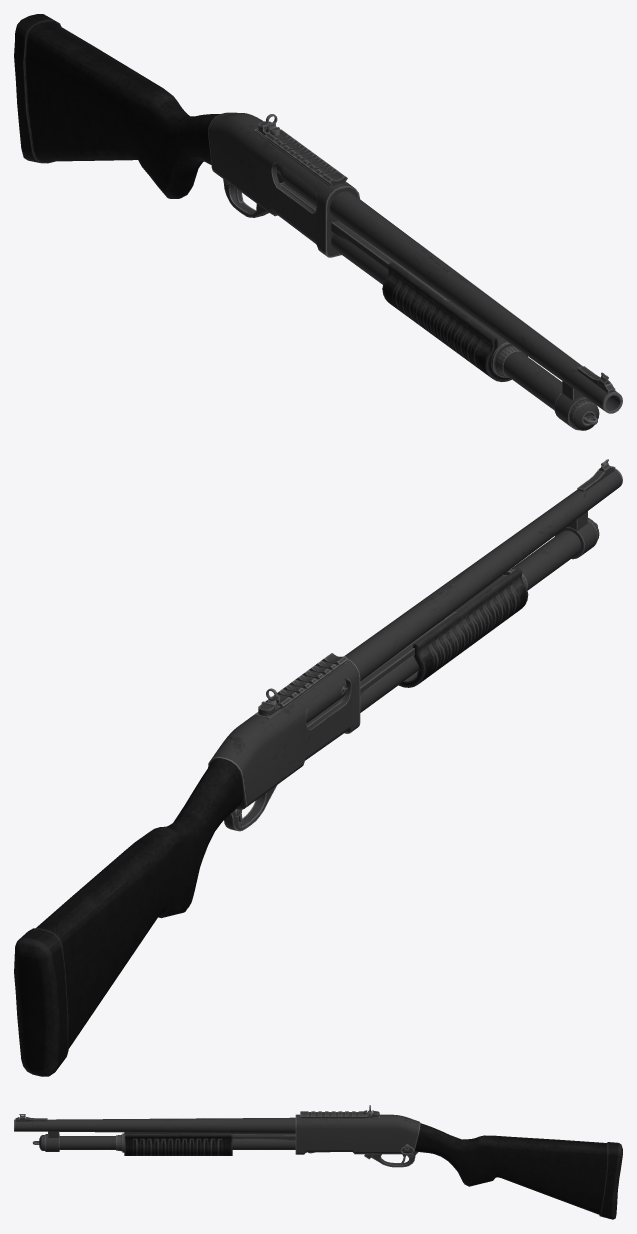
The model's file is Shotgun_P870.fbx.
3 renders of one model, top to bottom at view 1: azimuth 30°, elevation 25°; view 2: azimuth 150°, elevation 25°; view 3: azimuth 270°, elevation 25°, orthographic. The views are drawn at different scales.
Visible parts, largest first — view 1: GunMesh; view 2: GunMesh; view 3: GunMesh.
Boxes of the visible parts, x1,y1,x2,y2 form: GunMesh: (14,14,622,430); GunMesh: (14,459,622,1076); GunMesh: (14,1105,622,1219).
Size of the model in its own units: 0.0461 by 0.2162 by 1.06.
1 material, 1 textured.
